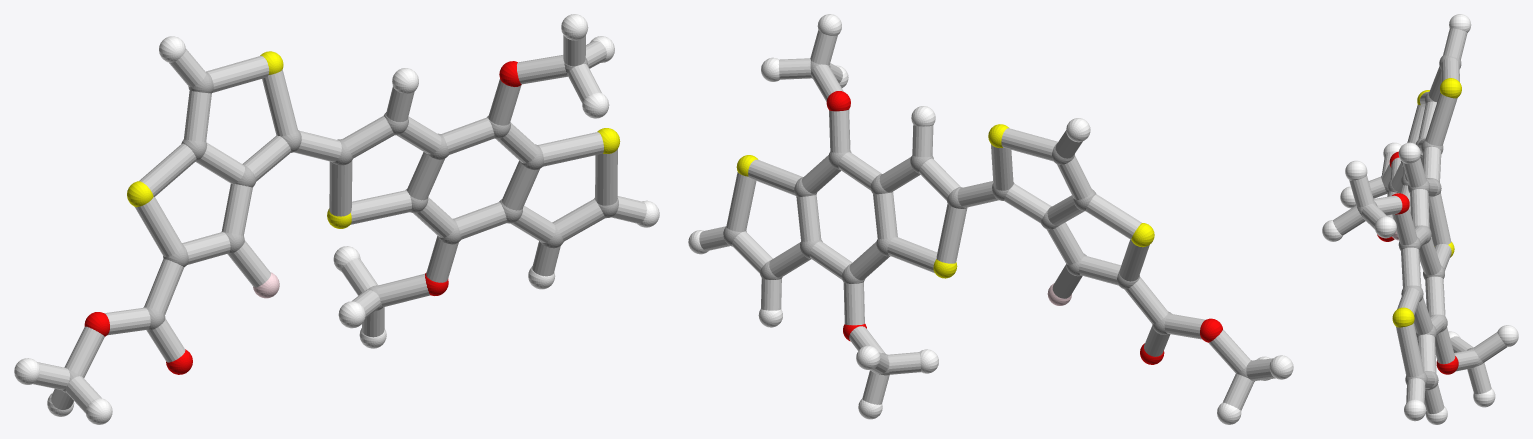
File: color.glb
3 renders of one model, left to right at view 1: azimuth 30°, elevation 25°; view 2: azimuth 150°, elevation 25°; view 3: azimuth 270°, elevation 25°, orthographic. The views are drawn at different scales.
Visible parts, largest first — view 1: grp15205, grp8689, grp1, grp7241, grp13395; view 2: grp15205, grp8689, grp1, grp7241, grp13395; view 3: grp15205, grp8689, grp1, grp7241, grp13395.
Boxes of the visible parts, box(x1,y1,x2,y2) form: grp15205: box(33, 35, 646, 413); grp8689: box(14, 14, 659, 424); grp1: box(61, 57, 618, 393); grp7241: box(127, 51, 620, 228); grp13395: box(84, 61, 521, 374); grp15205: box(699, 30, 1275, 410); grp8689: box(688, 14, 1293, 424); grp1: box(723, 61, 1254, 381); grp7241: box(736, 124, 1154, 278); grp13395: box(826, 91, 1222, 364); grp15205: box(1333, 28, 1506, 413); grp8689: box(1322, 14, 1518, 424); grp1: box(1357, 55, 1483, 390); grp7241: box(1392, 78, 1461, 327); grp13395: box(1377, 151, 1458, 374).
Size of the model in its own units: 16.74 by 9.13 by 5.32.
